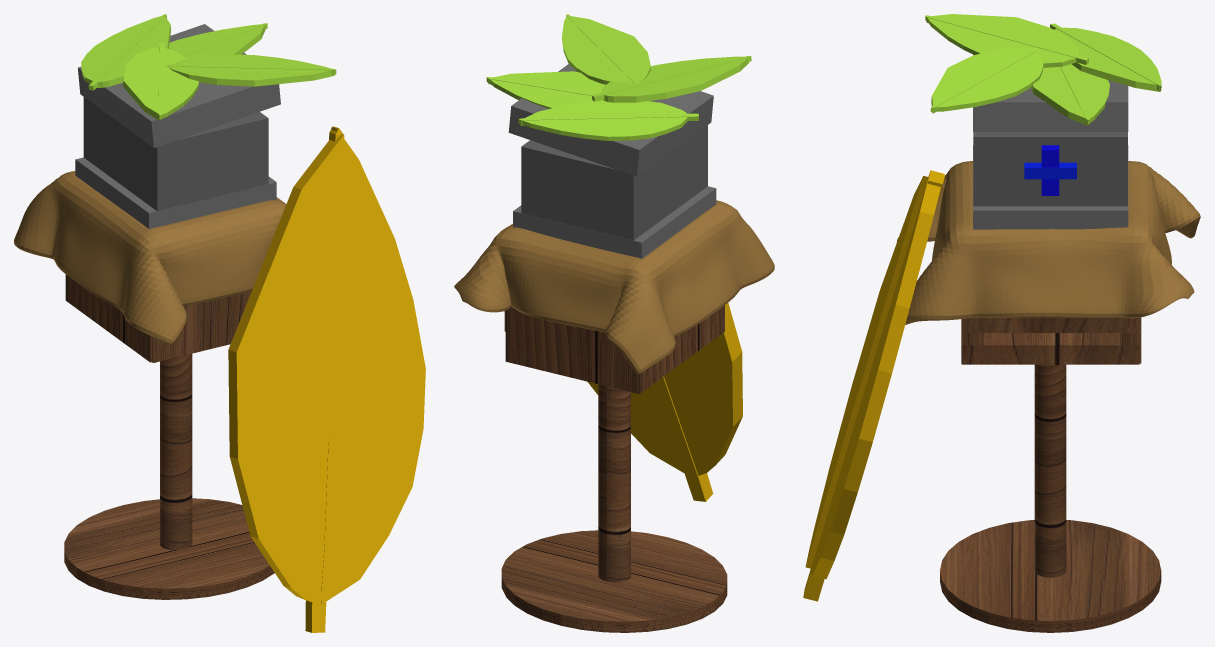
The model's file is spawn point type2.fbx.
3 views of the same model, side by side, from view 1: azimuth 30°, elevation 25°; view 2: azimuth 150°, elevation 25°; view 3: azimuth 270°, elevation 25° (orthographic). The views are drawn at different scales.
Parts seen in each view (by area): view 1: Cube.023, Plane, Cylinder, Cube.017, Cube.015, Cylinder.001, Cube.011, Cube.021, Cube.022, Cube.002, Cube.019, Cube.004 (+1 smaller); view 2: Plane, Cylinder, Cube.017, Cube.023, Cube.003, Cylinder.001, Cube.015, Cube.019, Cube.021, Cube.011, Cube.022, Cube.020 (+1 smaller); view 3: Plane, Cylinder, Cube.023, Cube.017, Cylinder.001, Cube, Cube.021, Cube.022, Cube.015, Cube.011, Cube.019, Cube.020 (+3 smaller).
Boxes of the visible parts, <box> form: Cube.023: <box>228,126,425,632</box>; Plane: <box>14,171,286,344</box>; Cylinder: <box>64,498,274,599</box>; Cube.017: <box>83,97,268,211</box>; Cube.015: <box>78,24,280,147</box>; Cylinder.001: <box>160,353,192,549</box>; Cube.011: <box>75,157,276,229</box>; Cube.021: <box>164,54,336,86</box>; Cube.022: <box>122,42,198,120</box>; Cube.002: <box>152,291,251,362</box>; Cube.019: <box>81,14,170,90</box>; Cube.004: <box>65,274,152,362</box>; Plane: <box>454,200,774,374</box>; Cylinder: <box>501,530,727,632</box>; Cube.017: <box>521,125,707,240</box>; Cube.023: <box>587,303,742,501</box>; Cube.003: <box>505,306,637,393</box>; Cylinder.001: <box>598,384,630,582</box>; Cube.015: <box>508,64,713,176</box>; Cube.019: <box>518,99,698,140</box>; Cube.021: <box>562,14,651,84</box>; Cube.011: <box>513,186,716,258</box>; Cube.022: <box>592,56,751,102</box>; Cube.020: <box>486,71,605,108</box>; Plane: <box>897,161,1200,324</box>; Cylinder: <box>940,520,1161,632</box>; Cube.023: <box>803,170,944,601</box>; Cube.017: <box>973,132,1127,206</box>; Cylinder.001: <box>1034,364,1066,577</box>; Cube: <box>961,333,1139,364</box>; Cube.021: <box>930,47,1043,113</box>; Cube.022: <box>925,14,1088,67</box>; Cube.015: <box>973,54,1128,131</box>; Cube.011: <box>973,145,1128,229</box>; Cube.019: <box>1050,23,1161,91</box>; Cube.020: <box>1031,64,1109,125</box>.
Bounding box in the file's own units: 826 × 1499 × 1014.
Materials: 21 (9 with a texture image).
